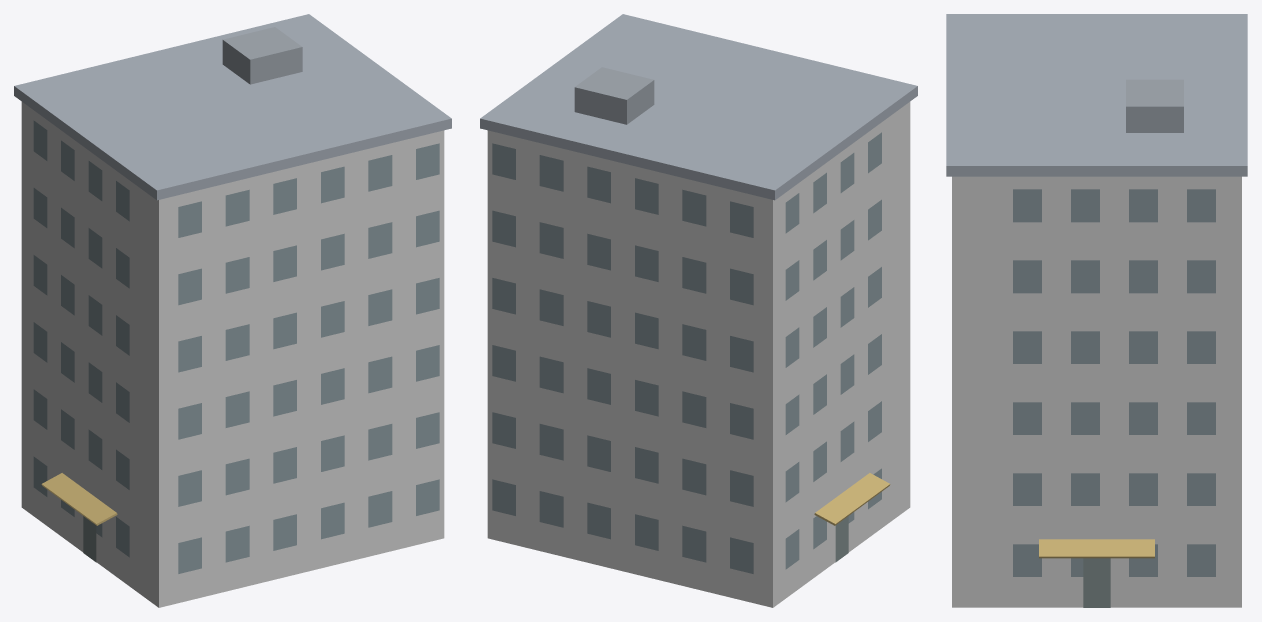
Rendered from block_2.glb.
The picture shows the model from 3 angles, left to right: view 1: azimuth 30°, elevation 25°; view 2: azimuth 150°, elevation 25°; view 3: azimuth 270°, elevation 25°; orthographic projection. The views are drawn at different scales.
Parts seen in each view (by area): view 1: block_2; view 2: block_2; view 3: block_2.
Boxes of the visible parts, bbox=[...] form: block_2: bbox=[14, 14, 451, 607]; block_2: bbox=[480, 14, 917, 607]; block_2: bbox=[946, 14, 1247, 607].
Size of the model in its own units: 13.79 by 17.9 by 10.4.
